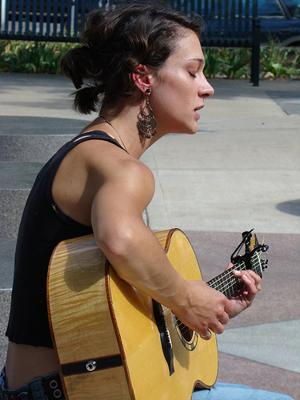person: (3, 8, 262, 398)
